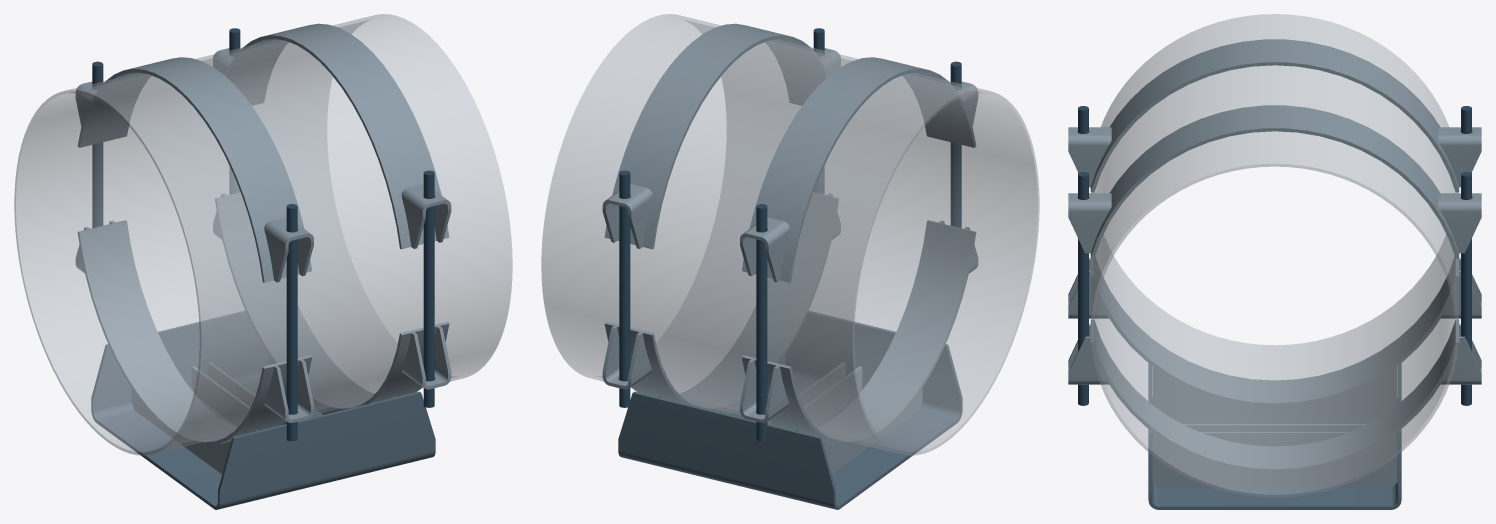
File: TS-627.00.000-072-opora-dn1020-H100-L680.glb
3 renders of one model, left to right at view 1: azimuth 30°, elevation 25°; view 2: azimuth 150°, elevation 25°; view 3: azimuth 270°, elevation 25°, orthographic.
Visible parts, largest first — view 1: truba, skoba_0, podushka_5, bugel0_podushka_0, bugel1_podushka_0, podushka_6, shpilka_0_-1, shpilka_1_-1, bugel1_ushko_2, bugel0_ushko_2, ushko_10, ushko_8 (+4 smaller); view 2: truba, skoba_0, podushka_5, bugel0_podushka_0, bugel1_podushka_0, podushka_6, shpilka_0_1, shpilka_1_1, bugel1_ushko_1, bugel0_ushko_1, ushko_9, ushko_7 (+4 smaller); view 3: truba, podushka_6, podushka_5, bugel0_podushka_0, bugel1_podushka_0, rebro4_2, skoba_0, rebro4_1, bugel1_ushko_1, bugel1_ushko_2, bugel0_ushko_1, bugel0_ushko_2 (+8 smaller).
Part boxes in pixels (<box>): truba: <box>14,14,512,455</box>; skoba_0: <box>91,311,435,509</box>; podushka_5: <box>77,220,311,445</box>; bugel0_podushka_0: <box>77,57,311,282</box>; bugel1_podushka_0: <box>225,23,449,249</box>; podushka_6: <box>215,192,449,411</box>; shpilka_0_-1: <box>286,204,297,441</box>; shpilka_1_-1: <box>423,170,434,407</box>; bugel1_ushko_2: <box>401,184,451,248</box>; bugel0_ushko_2: <box>264,217,313,282</box>; ushko_10: <box>401,326,451,389</box>; ushko_8: <box>264,359,313,422</box>; truba: <box>541,14,1039,455</box>; skoba_0: <box>618,311,962,509</box>; podushka_5: <box>742,220,976,445</box>; bugel0_podushka_0: <box>742,57,976,282</box>; bugel1_podushka_0: <box>604,23,828,249</box>; podushka_6: <box>604,192,838,411</box>; shpilka_0_1: <box>756,204,767,441</box>; shpilka_1_1: <box>619,170,630,407</box>; bugel1_ushko_1: <box>602,184,652,248</box>; bugel0_ushko_1: <box>740,217,789,282</box>; ushko_9: <box>602,326,652,389</box>; ushko_7: <box>740,359,789,422</box>; truba: <box>1090,14,1459,497</box>; podushka_6: <box>1090,319,1459,472</box>; podushka_5: <box>1090,257,1459,406</box>; bugel0_podushka_0: <box>1090,39,1459,192</box>; bugel1_podushka_0: <box>1090,105,1459,258</box>; rebro4_2: <box>1152,432,1397,488</box>; skoba_0: <box>1148,363,1401,509</box>; rebro4_1: <box>1152,366,1397,422</box>; bugel1_ushko_1: <box>1438,193,1481,253</box>; bugel1_ushko_2: <box>1068,193,1111,253</box>; bugel0_ushko_1: <box>1438,127,1481,187</box>; bugel0_ushko_2: <box>1068,127,1111,187</box>.
Bounding box in the file's own units: 980 × 1142 × 1144.
